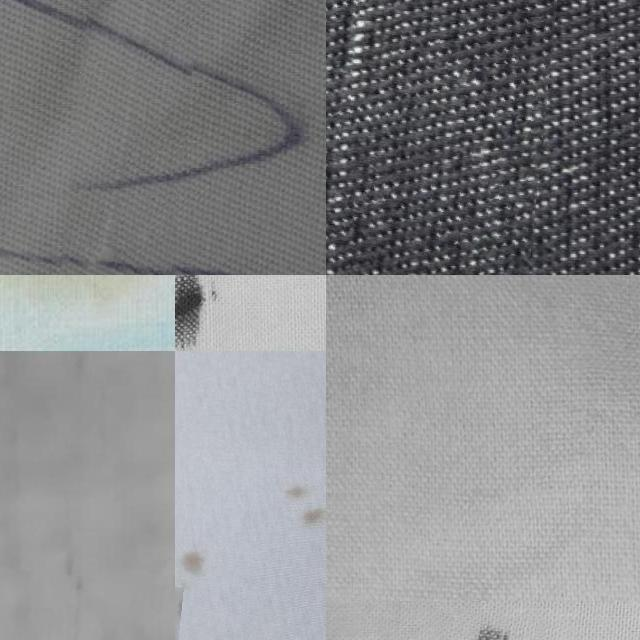Thread_other: (0, 570, 179, 640), (175, 463, 233, 619), (257, 431, 326, 561), (175, 275, 242, 350)
stains: (326, 0, 567, 275), (73, 0, 211, 275)
